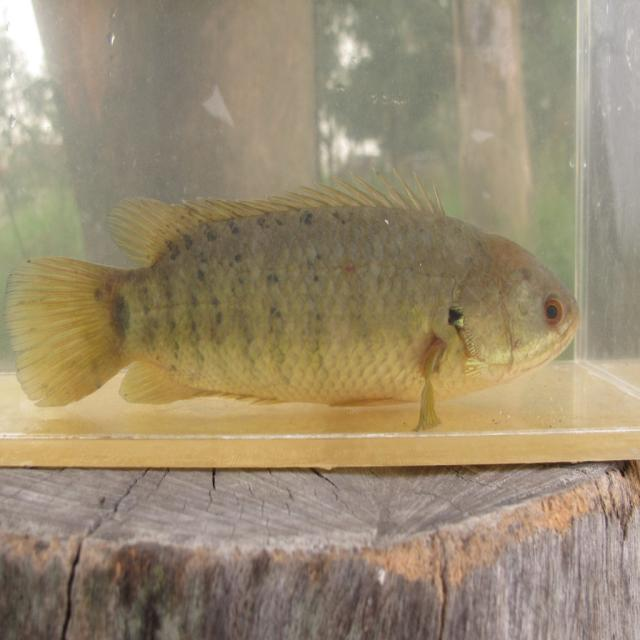Climbing-Perch: (9, 188, 598, 442)
